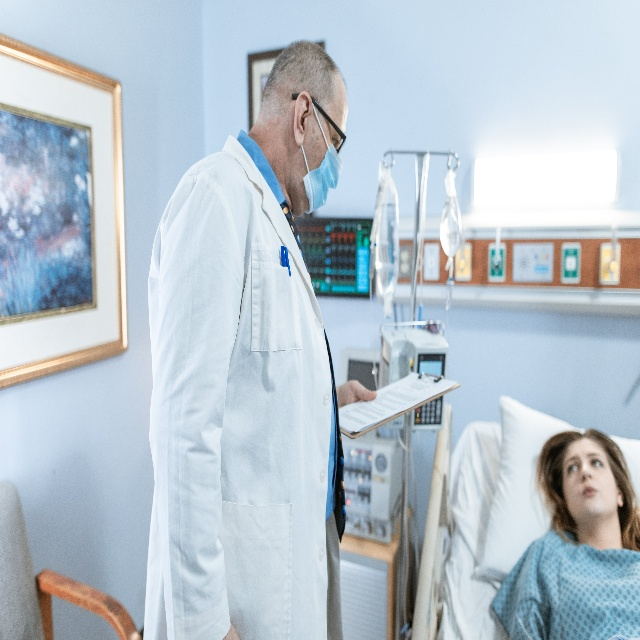Gafas: (292, 93, 348, 154)
Mascara: (299, 107, 343, 218)
